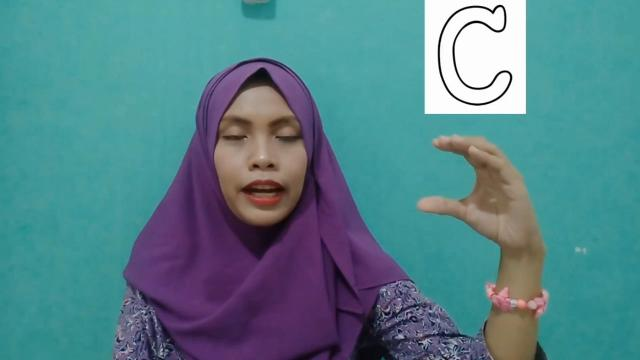C: (416, 133, 546, 256)
